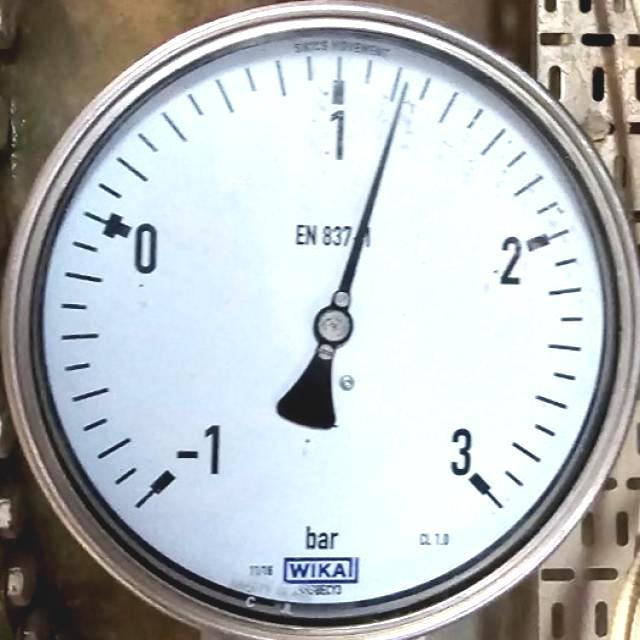Needle_Tip: (360, 74, 431, 141)
Needle_base: (300, 300, 362, 364)
max_value: (409, 423, 502, 482)
min_value: (157, 421, 232, 491)
